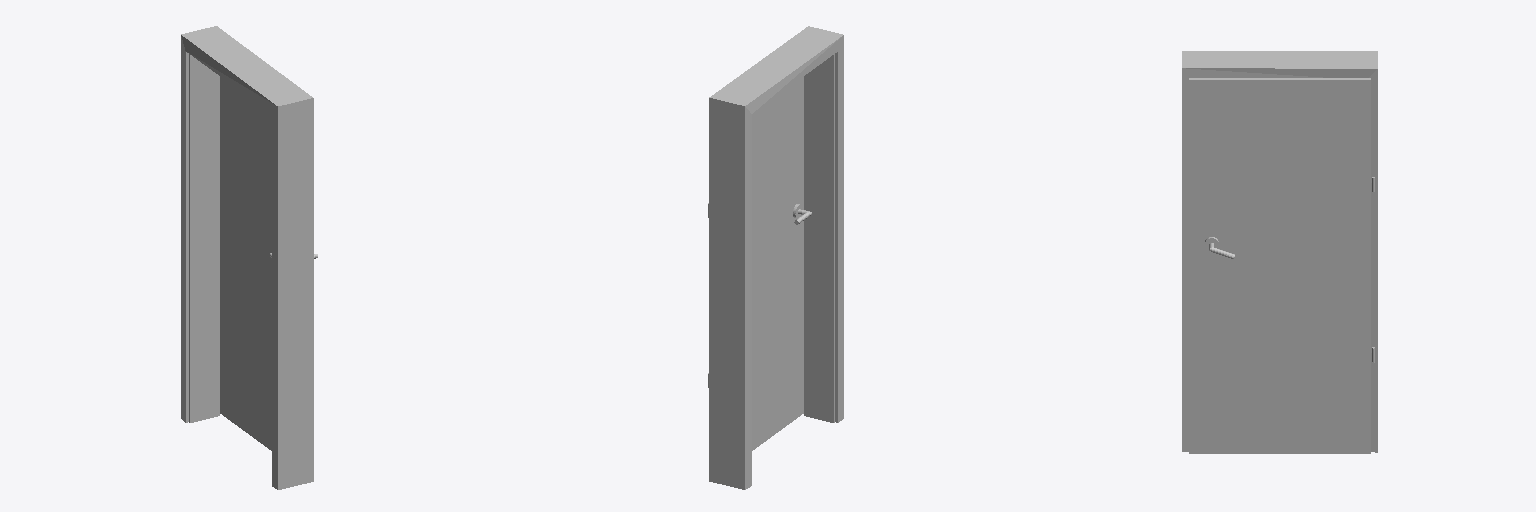
File: door76.obj
3 views of the same model, side by side, from view 1: azimuth 30°, elevation 25°; view 2: azimuth 150°, elevation 25°; view 3: azimuth 270°, elevation 25° (orthographic).
Visible parts, largest first — view 1: Cylinder.005, Cylinder.001; view 2: Cylinder.005, Cylinder.001; view 3: Cylinder.001, Cylinder.005.
Boxes of the visible parts, <box> form: Cylinder.005: <box>181,26,313,489</box>; Cylinder.001: <box>220,77,271,450</box>; Cylinder.005: <box>708,26,843,489</box>; Cylinder.001: <box>708,77,803,450</box>; Cylinder.001: <box>1189,78,1374,453</box>; Cylinder.005: <box>1182,51,1377,452</box>.
Size of the model in its own units: 0.3039 by 2.05 by 0.95.